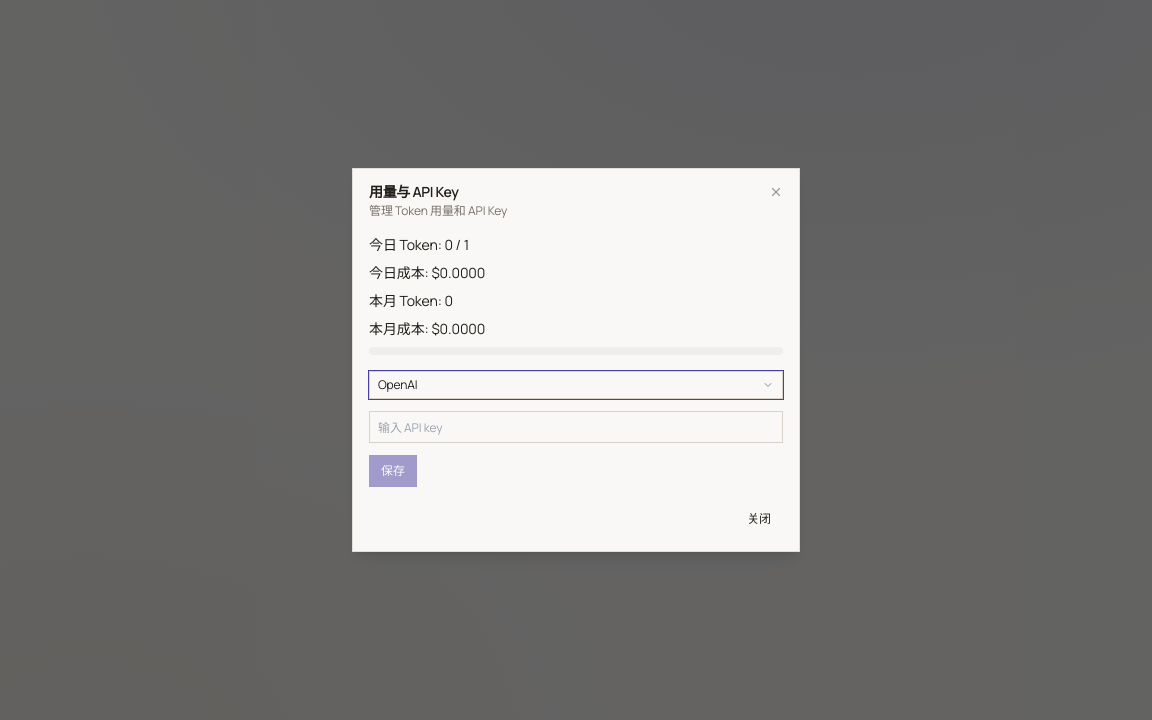
Test case: UsageDialog › saves an API key
This screenshot has width=1152, height=720.
Expected: the dropdown is shown, [369,371,783,399]
Step 1. Type "sk-test" into the password field with placeholder "输入 API key" → (576, 427), box [369,411,783,443]
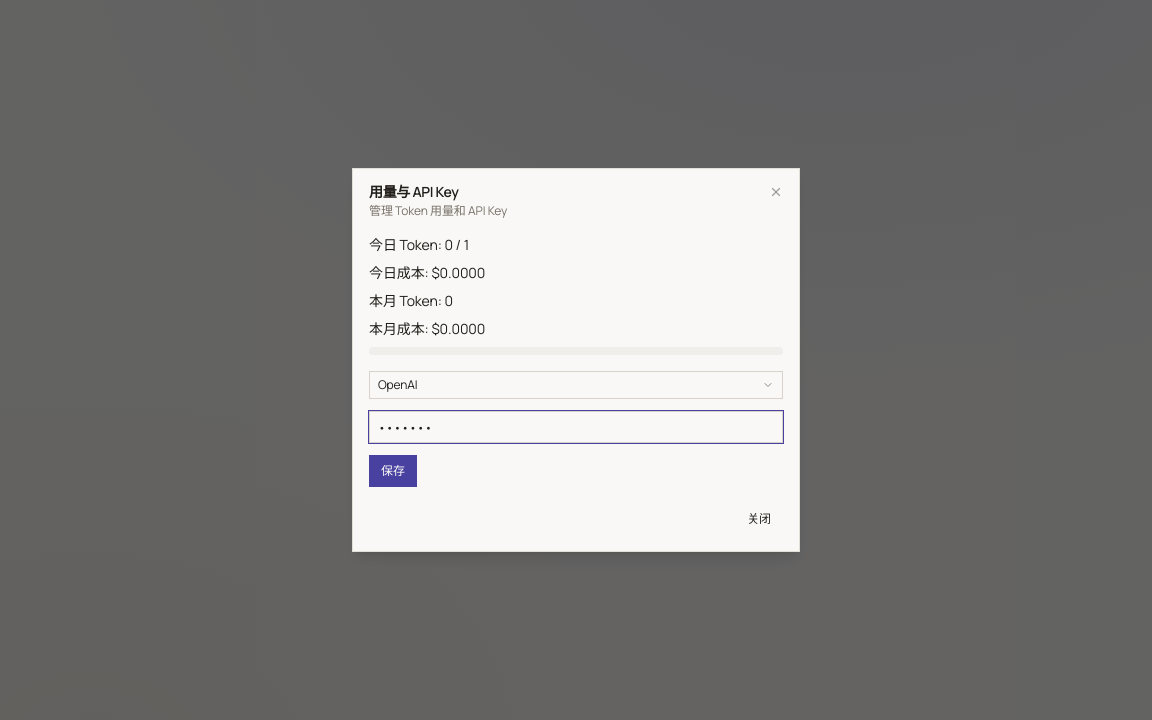
Step 2. Click the button "保存" → (393, 471), box [369,455,417,487]
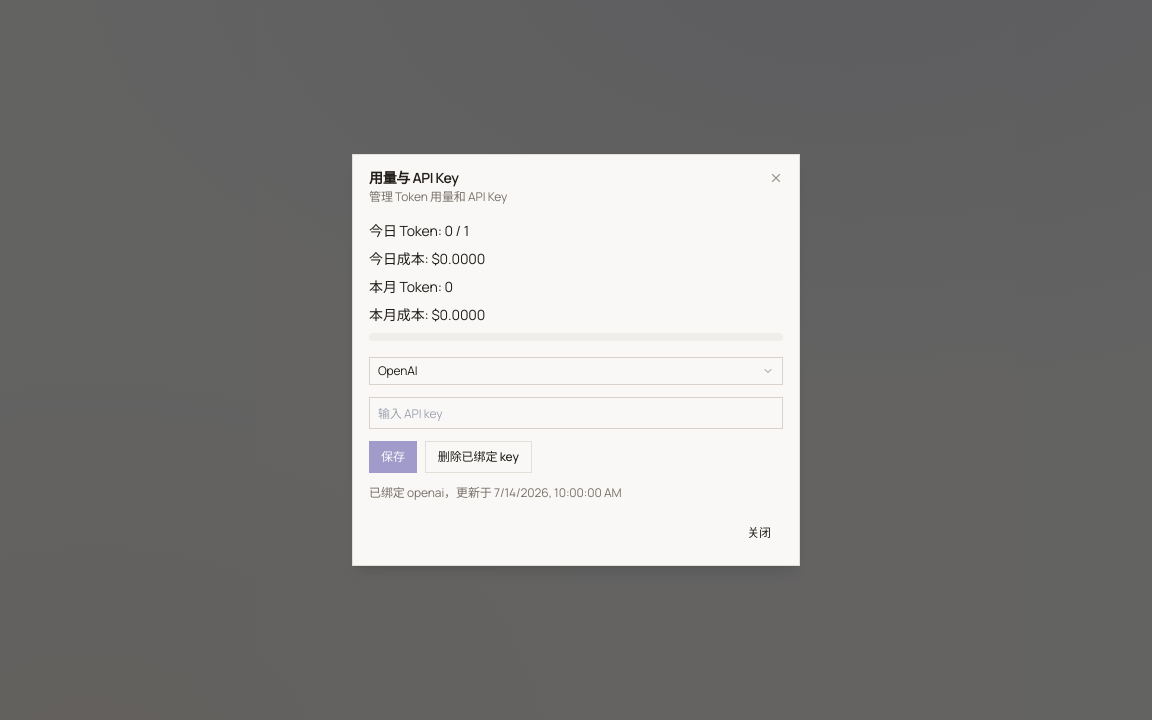
Expected: the text "已绑定 openai，更新于 7/14/2026, 10:00:00 AM" is shown, [369,484,622,501]
